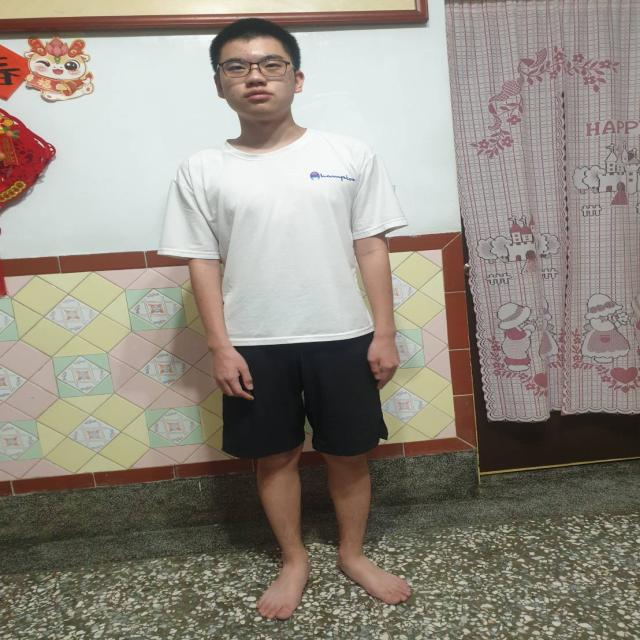stand: (188, 12, 438, 617)
